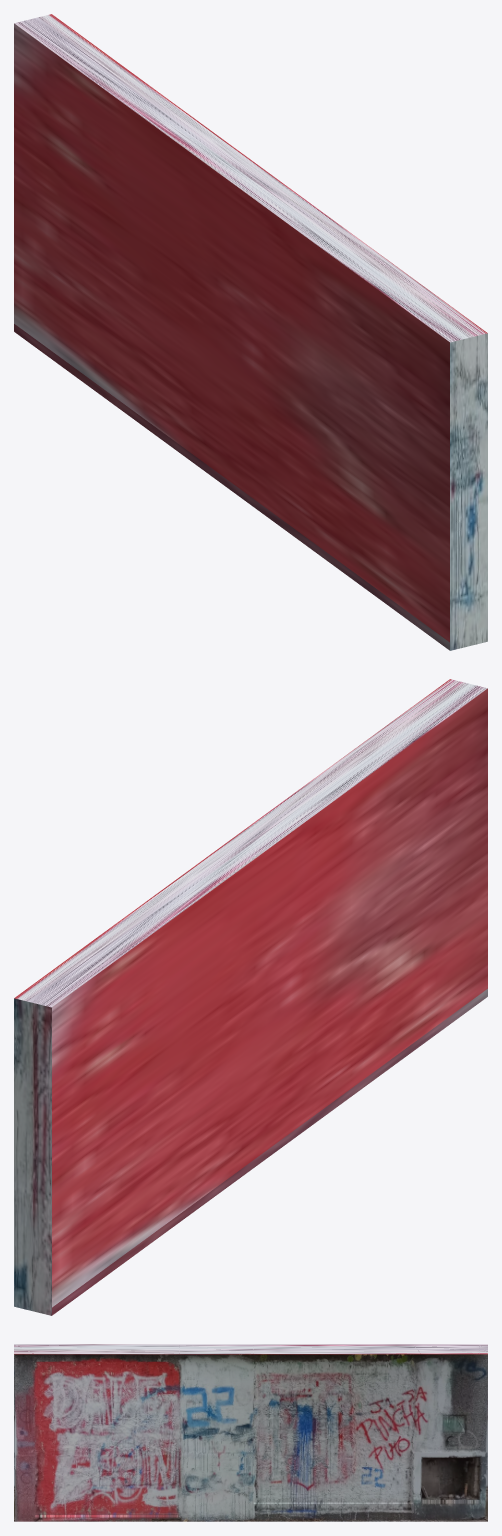
File: pared reventada modelo.fbx
3 views of the same model, one above another, from view 1: azimuth 30°, elevation 25°; view 2: azimuth 150°, elevation 25°; view 3: azimuth 270°, elevation 25° (orthographic). The views are drawn at different scales.
Parts seen in each view (by area): view 1: Cube; view 2: Cube; view 3: Cube.
Boxes of the visible parts, box(x1,y1,x2,y2) form: Cube: box(14, 14, 487, 650); Cube: box(14, 679, 487, 1315); Cube: box(14, 1344, 487, 1521).
Bounding box in the file's own units: 68.88 × 536 × 1374.
